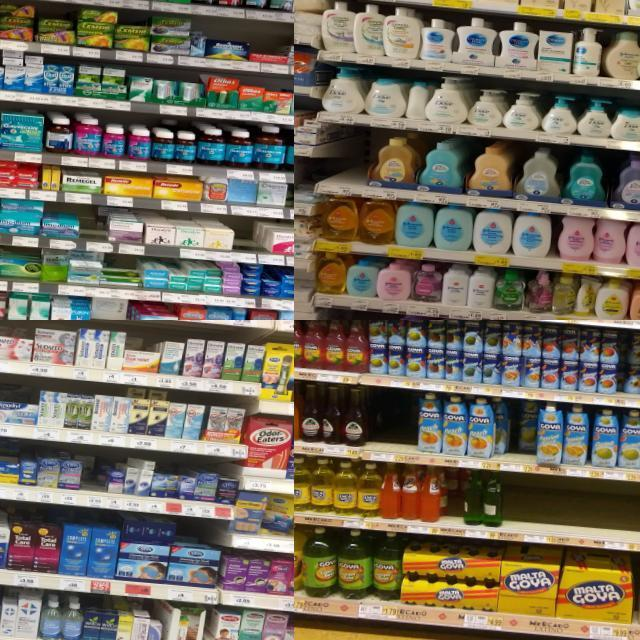Imprecise: (119, 512, 177, 586), (491, 398, 541, 460), (126, 387, 171, 441), (620, 331, 640, 394), (78, 452, 111, 490)
